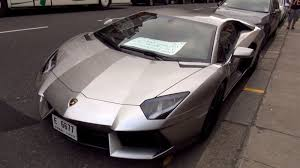Lamborghini: (46, 19, 257, 136)
